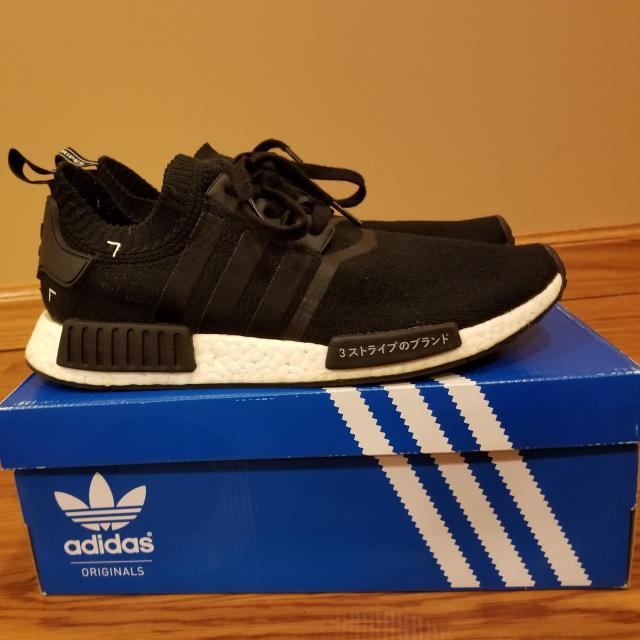shoe: (7, 123, 640, 396)
